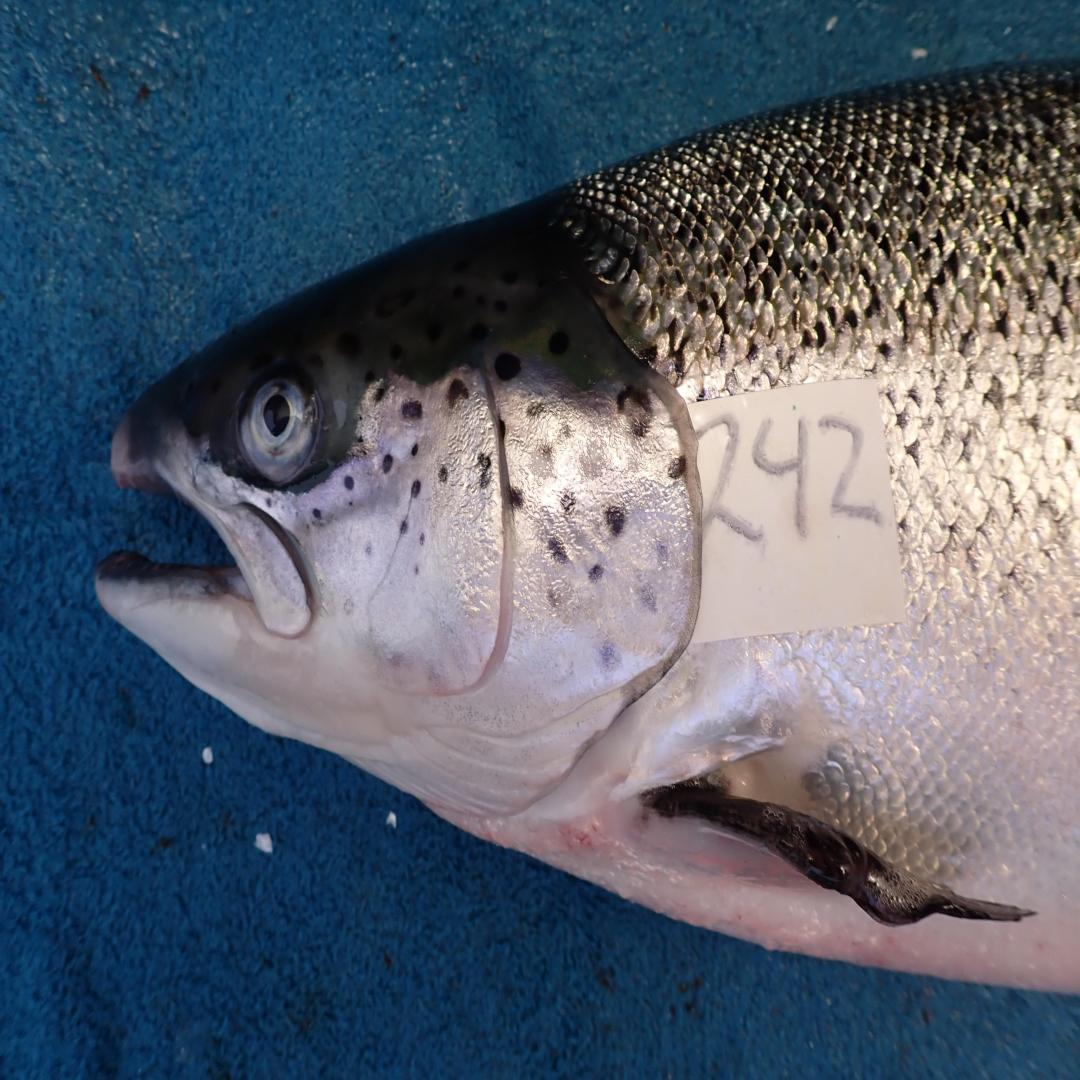spot: (616, 385, 654, 439), (494, 352, 521, 380), (546, 534, 570, 565), (557, 487, 580, 518), (605, 506, 626, 537), (599, 638, 620, 669), (365, 380, 390, 405), (447, 380, 468, 408), (477, 453, 491, 489), (508, 484, 525, 512), (669, 456, 688, 481), (641, 584, 655, 615), (401, 399, 422, 419), (527, 402, 546, 419), (657, 541, 668, 567), (589, 562, 603, 582), (344, 596, 356, 616), (411, 478, 422, 498), (547, 589, 559, 607), (498, 418, 506, 442), (382, 453, 392, 472), (409, 442, 420, 458), (399, 518, 409, 534), (312, 506, 323, 520), (344, 475, 354, 489), (439, 467, 447, 484), (419, 533, 425, 546), (366, 544, 371, 555), (414, 565, 419, 575), (358, 435, 364, 443), (363, 450, 367, 455)
